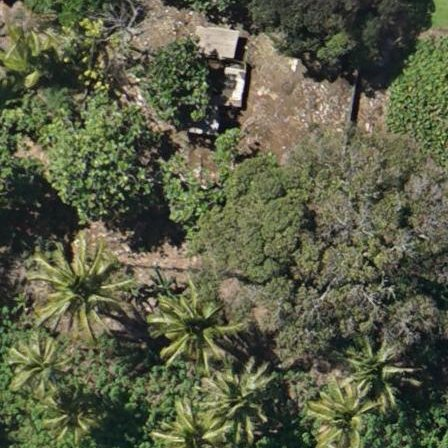palm_tree: (151, 287, 229, 371), (40, 249, 113, 326), (309, 385, 377, 448), (342, 340, 408, 404), (7, 336, 66, 398), (163, 406, 225, 448)
